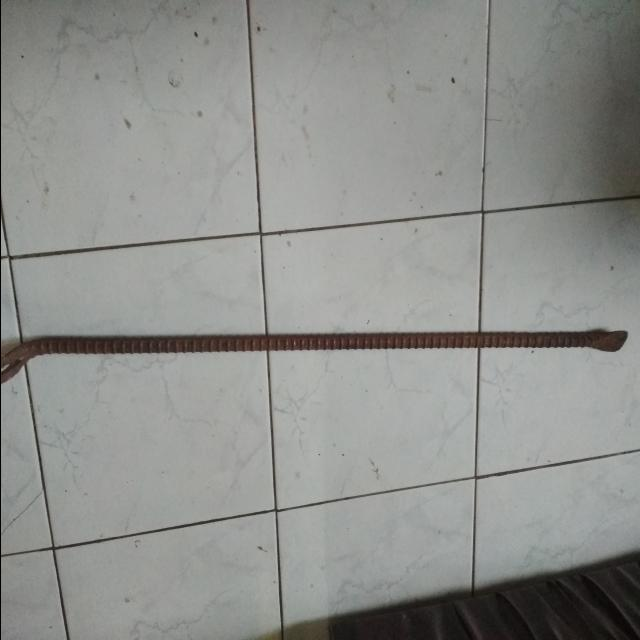Linggis: (1, 327, 632, 387)
